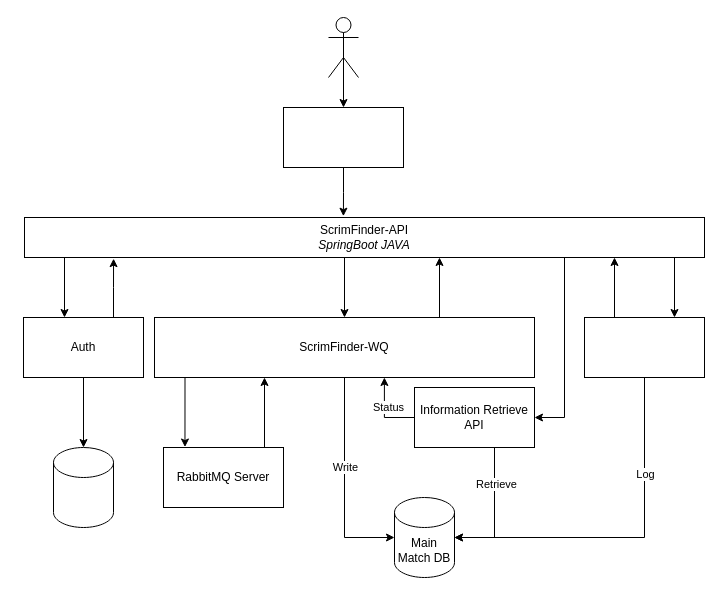
Some shapes in this 722 by 595 pixel diagram are drawn without their labels. The shapes that lost their labels are listed below. From the top down, each one's centre as x and y in pixels, then its label:
At pixel 343 137: "Web Portal Vue.JS".
At pixel 644 347: "Email Service".
At pixel 83 487: "Auth DB".
